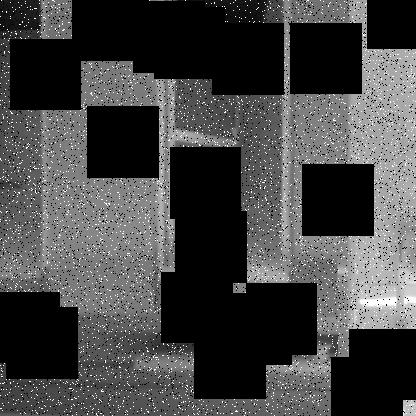Porte: (154, 1, 296, 275)
